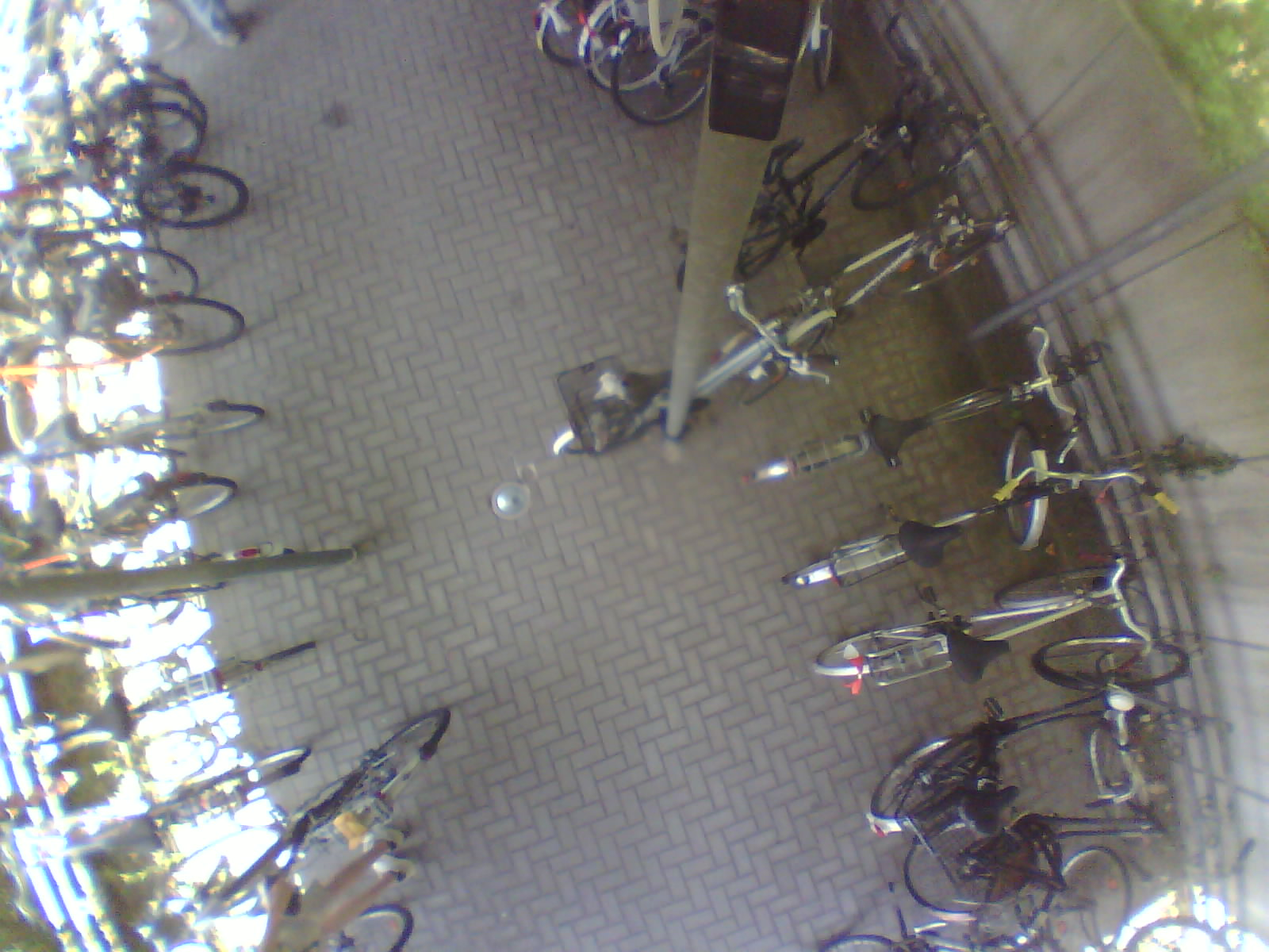bicylce: (176, 713, 465, 952), (875, 641, 1202, 848), (684, 57, 993, 272), (785, 444, 1181, 604), (755, 338, 1117, 511), (818, 561, 1159, 711), (546, 309, 839, 474), (726, 196, 1026, 333), (0, 629, 326, 742), (0, 741, 306, 861), (609, 0, 851, 133), (0, 285, 252, 387), (0, 387, 282, 472), (0, 152, 259, 240), (0, 470, 252, 536)
saddle: (12, 397, 99, 470), (54, 682, 140, 755), (17, 301, 88, 360), (940, 624, 1012, 682), (0, 497, 75, 552), (892, 515, 966, 569), (101, 805, 165, 862), (868, 408, 929, 460), (962, 783, 1021, 835), (798, 247, 863, 285), (760, 134, 807, 184), (243, 876, 302, 914), (30, 117, 83, 150), (622, 371, 671, 401), (5, 231, 38, 256)
